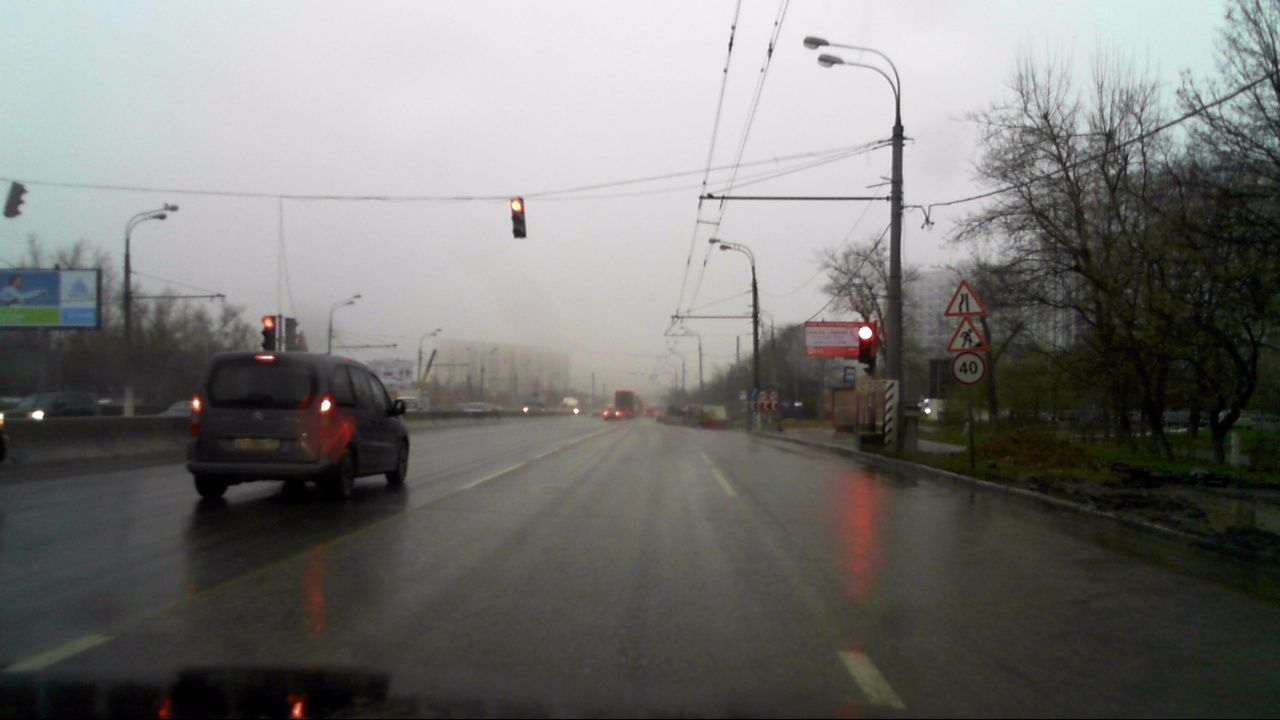speed_warning_40: (952, 353, 984, 385)
